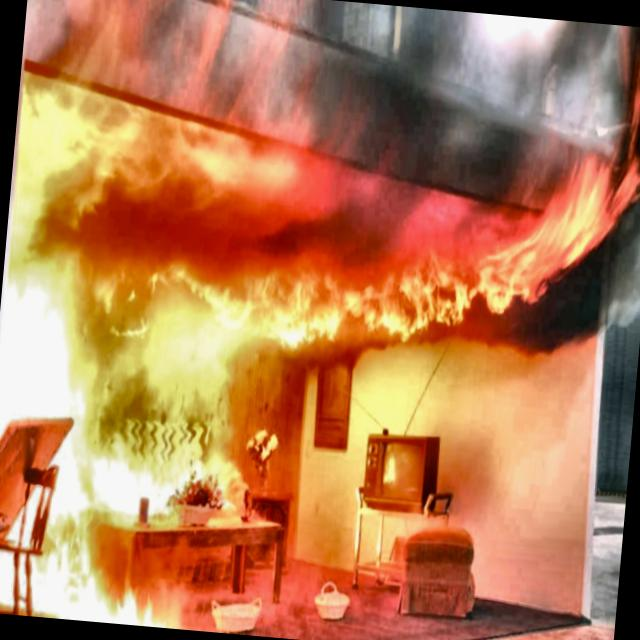fire: (0, 118, 241, 558), (274, 120, 631, 364)
